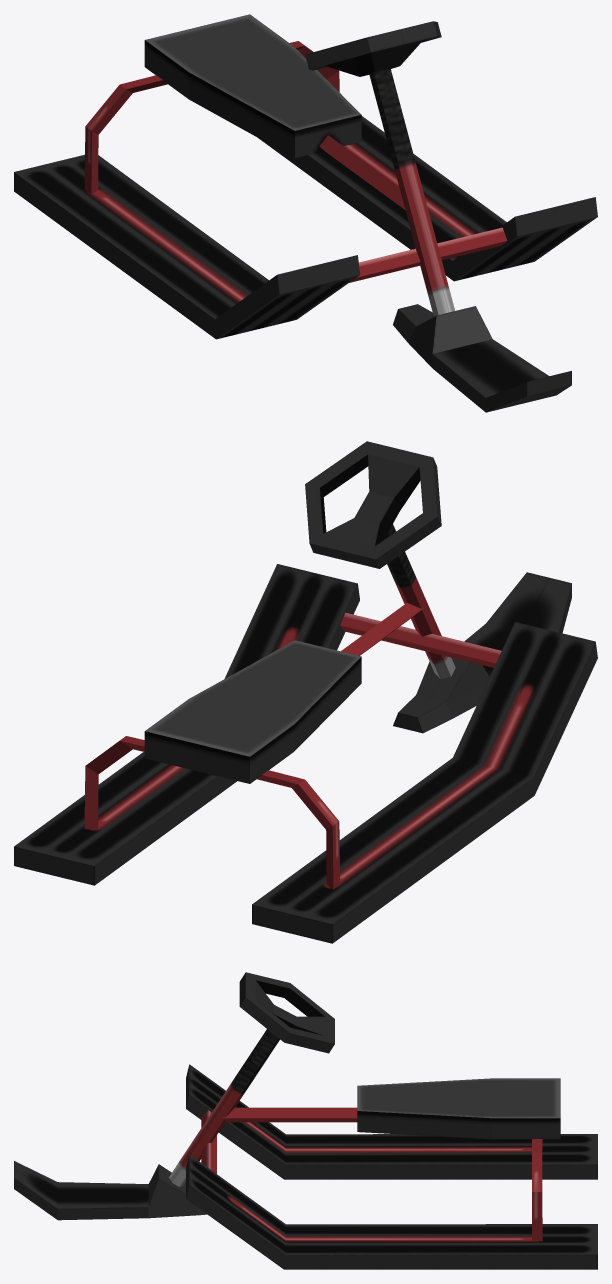
The model's file is Snowcat_V_0_2.fbx.
The picture shows the model from 3 angles, top to bottom: view 1: azimuth 30°, elevation 25°; view 2: azimuth 150°, elevation 25°; view 3: azimuth 270°, elevation 25°; orthographic projection. The views are drawn at different scales.
Visible parts, largest first — view 1: Snowcat, Ski, Handle; view 2: Snowcat, Handle, Ski; view 3: Snowcat, Ski, Handle.
Part boxes in pixels (bbox=[...]): Snowcat: bbox=[14, 14, 597, 339]; Ski: bbox=[393, 304, 571, 412]; Handle: bbox=[305, 21, 441, 76]; Snowcat: bbox=[14, 524, 597, 943]; Handle: bbox=[305, 441, 441, 568]; Ski: bbox=[393, 572, 571, 733]; Snowcat: bbox=[169, 1029, 597, 1269]; Ski: bbox=[14, 1161, 206, 1220]; Handle: bbox=[239, 972, 334, 1053].
Size of the model in its own units: 77.5 by 67.29 by 159.
